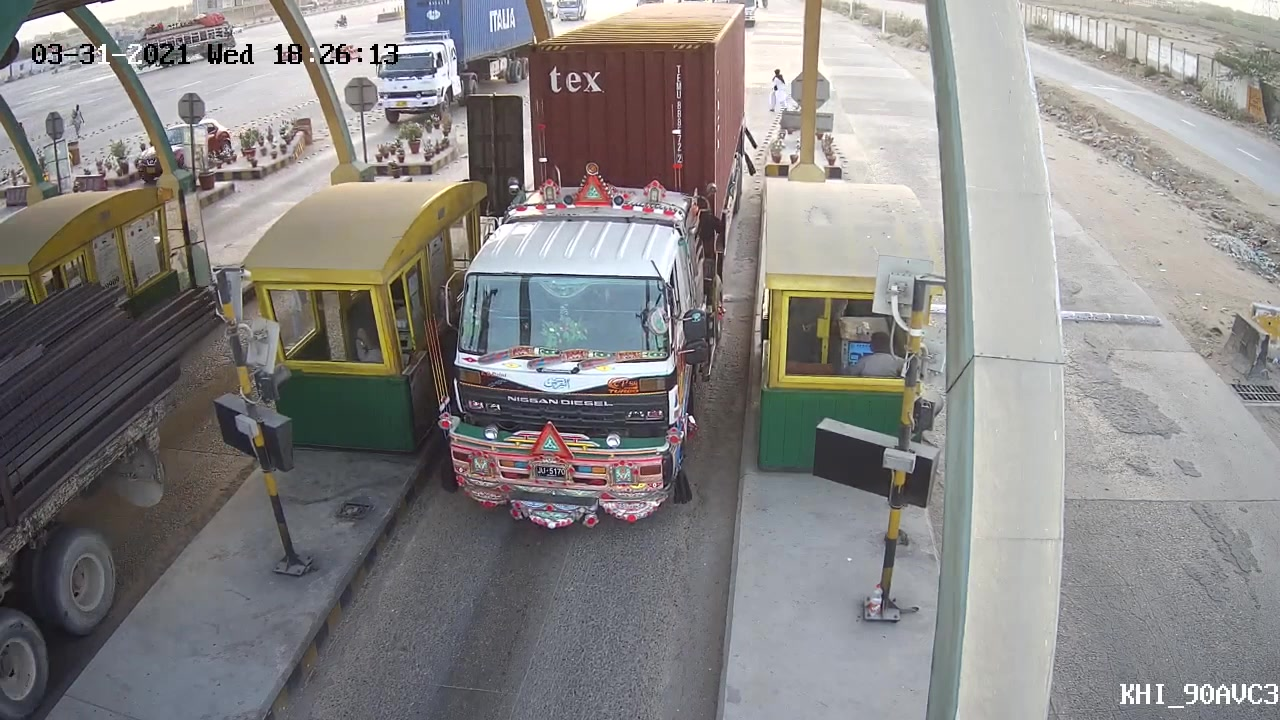F6: (434, 5, 756, 529)
